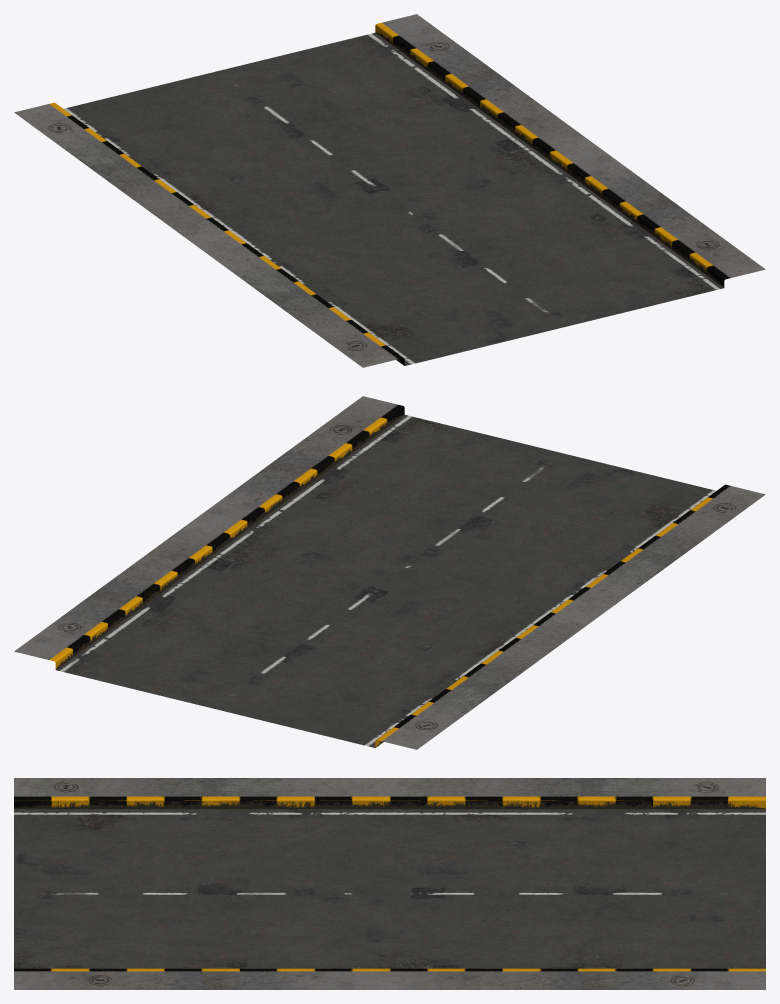
File: road__avenue__street.glb
The picture shows the model from 3 angles, top to bottom: view 1: azimuth 30°, elevation 25°; view 2: azimuth 150°, elevation 25°; view 3: azimuth 270°, elevation 25°; orthographic projection. The views are drawn at different scales.
Visible parts, largest first — view 1: Object_2; view 2: Object_2; view 3: Object_2.
Boxes of the visible parts, x1,y1,x2,y2 form: Object_2: (14, 14, 765, 367); Object_2: (14, 396, 765, 749); Object_2: (14, 778, 765, 989).
Bounding box in the file's own units: 1000 × 20 × 1500.
1 material, 1 textured.
